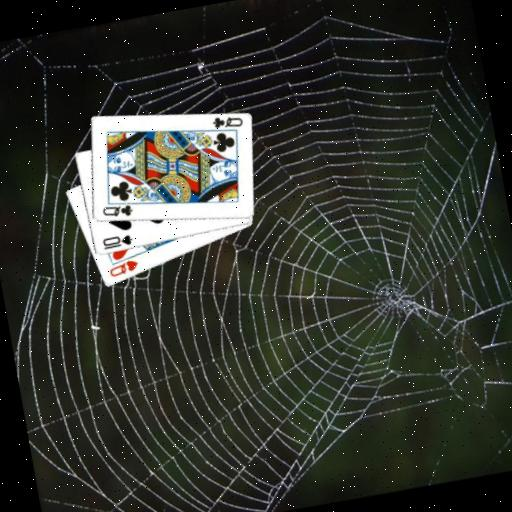10S: (99, 231, 135, 252)
QC: (98, 198, 135, 222), (207, 109, 244, 133)
QH: (104, 256, 141, 280)
